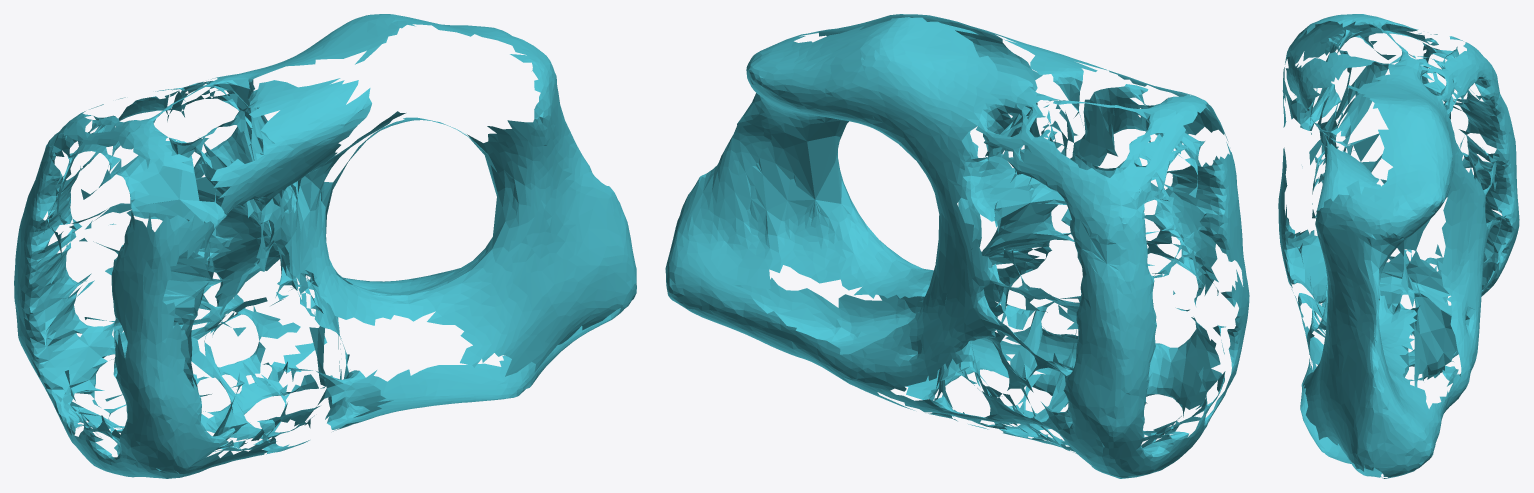
3 renders of one model, left to right at view 1: azimuth 30°, elevation 25°; view 2: azimuth 150°, elevation 25°; view 3: azimuth 270°, elevation 25°, orthographic. The views are drawn at different scales.
Visible parts, largest first — view 1: Renderer Node; view 2: Renderer Node; view 3: Renderer Node.
Boxes of the visible parts, x1,y1,x2,y2 form: Renderer Node: [14, 14, 636, 478]; Renderer Node: [665, 14, 1249, 478]; Renderer Node: [1278, 14, 1519, 478].
Bounding box in the file's own units: 0.7317 × 0.4867 × 0.3223.
1 material, 1 textured.
